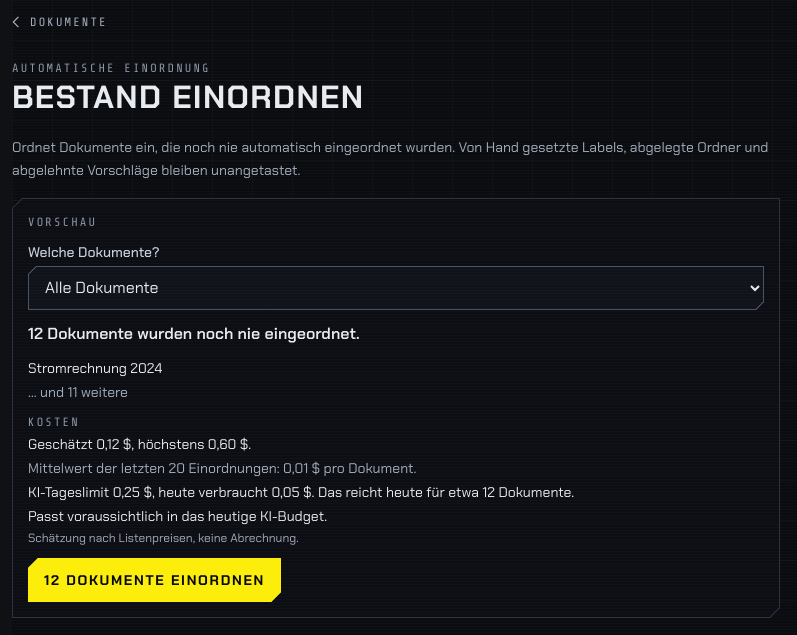
bulk classification › shows the preview with its cost and starts only on the member's click, bound to the previewed count
The width and height of the screenshot is (797, 635).
Check: the text with test id "bulk-preview-count" reads "12 Dokumente wurden noch nie eingeordnet.", box [28,323,360,344]
Click the button with test id "bulk-start-button". click: (155, 580)
box: [28,558,281,602]
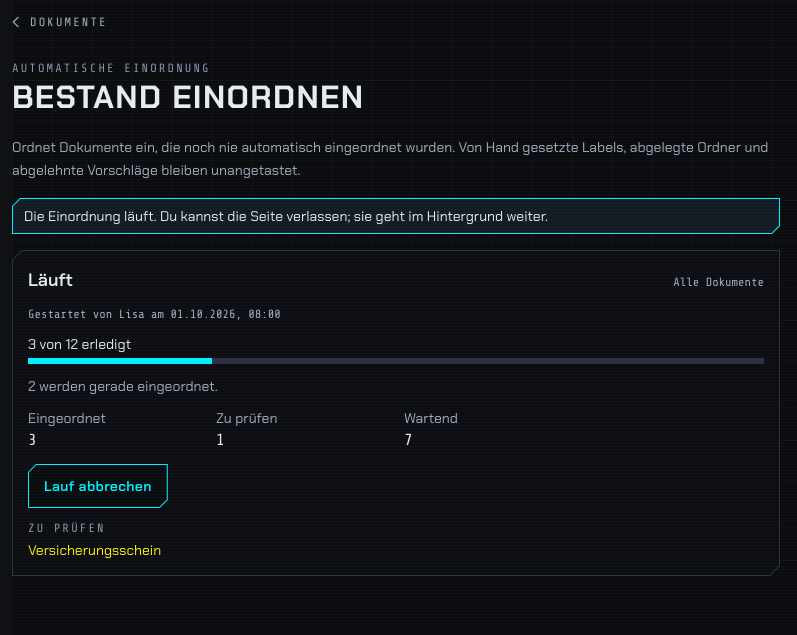
Check: the element with test id "bulk-run" is shown, box [12,250,780,576]
Check: the text with test id "bulk-progress" reads "3 von 12 erledigt", box [28,335,131,353]
Check: the element with test id "bulk-start" is gone
